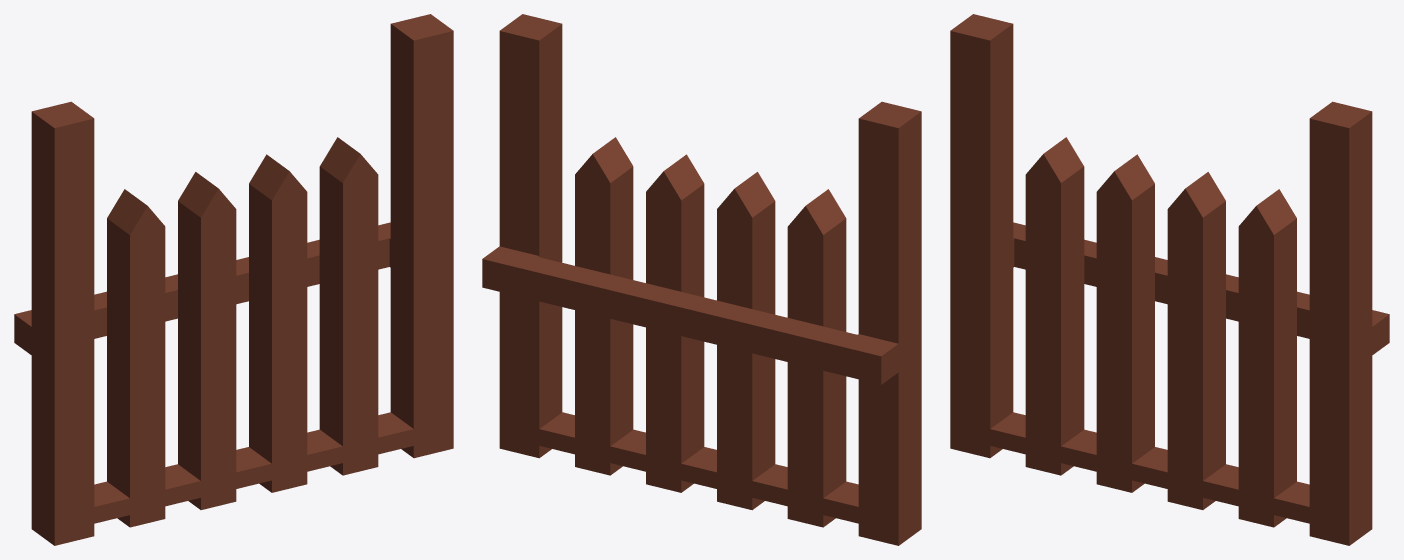
File: Picket Fence Full.fbx
3 renders of one model, left to right at view 1: azimuth 30°, elevation 25°; view 2: azimuth 150°, elevation 25°; view 3: azimuth 330°, elevation 25°, orthographic.
Visible parts, largest first — view 1: Picket Fence Full; view 2: Picket Fence Full; view 3: Picket Fence Full.
Part boxes in pixels (left/top/right/bottom): Picket Fence Full: left=14, top=14, right=453, bottom=545; Picket Fence Full: left=482, top=14, right=921, bottom=545; Picket Fence Full: left=950, top=14, right=1389, bottom=545.
Size of the model in its own units: 100 by 100 by 17.5.
